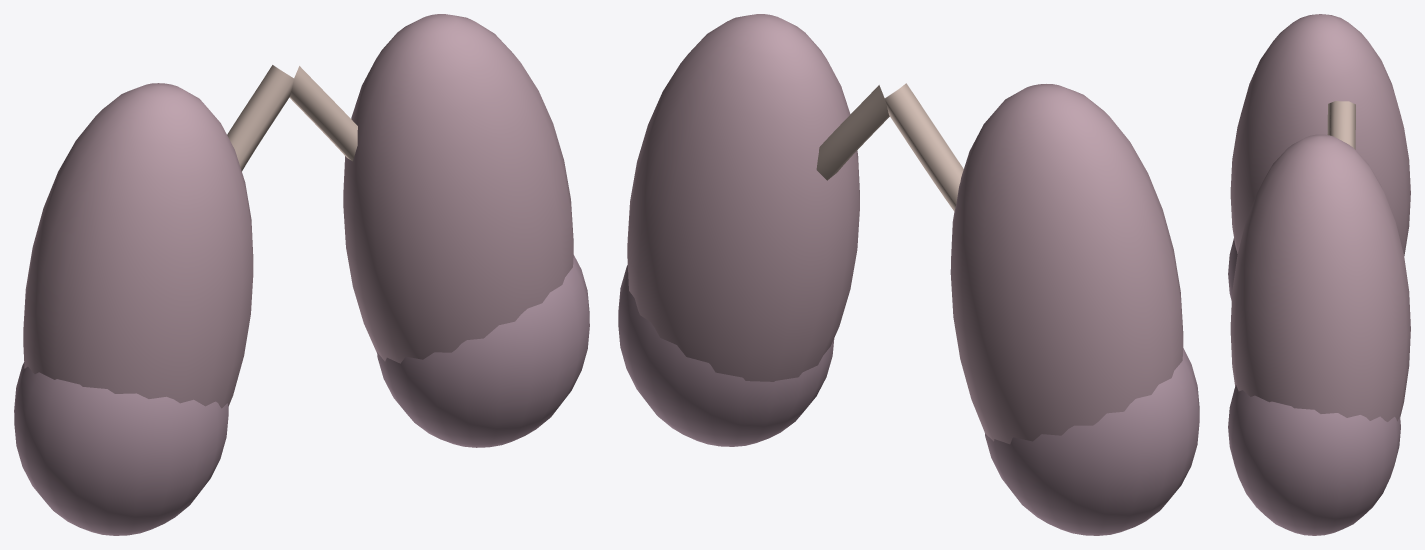
File: lungs.glb
The picture shows the model from 3 angles, left to right: view 1: azimuth 30°, elevation 25°; view 2: azimuth 150°, elevation 25°; view 3: azimuth 270°, elevation 25°; orthographic projection. The views are drawn at different scales.
Visible parts, largest first — view 1: left-lung-298, right-lung-294, right-lung-295, left-lung-299, right-lung-296, left-lung-300; view 2: left-lung-298, right-lung-294, right-lung-295, left-lung-299, right-lung-296, left-lung-300; view 3: left-lung-298, right-lung-294, left-lung-299, left-lung-300, right-lung-295.
Boxes of the visible parts, box(x1,y1,x2,y2) form: left-lung-298: box(343, 14, 573, 363); right-lung-294: box(23, 83, 253, 408); right-lung-295: box(14, 362, 228, 535); left-lung-299: box(377, 255, 589, 447); right-lung-296: box(227, 65, 293, 171); left-lung-300: box(289, 66, 357, 161); left-lung-298: box(627, 14, 859, 381); right-lung-294: box(950, 84, 1183, 444); right-lung-295: box(985, 348, 1199, 535); left-lung-299: box(618, 265, 834, 446); right-lung-296: box(885, 83, 963, 211); left-lung-300: box(816, 85, 889, 180); left-lung-298: box(1230, 134, 1410, 421); right-lung-294: box(1230, 14, 1410, 255); left-lung-299: box(1228, 385, 1400, 535); left-lung-300: box(1327, 101, 1355, 149); right-lung-295: box(1228, 238, 1237, 300).
Size of the model in its own units: 1.35 by 0.9965 by 0.444.
